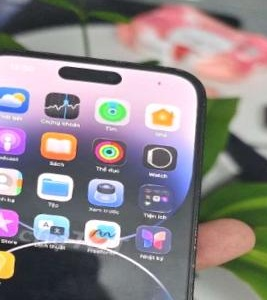scratch: (162, 206, 216, 300), (0, 34, 9, 77)
